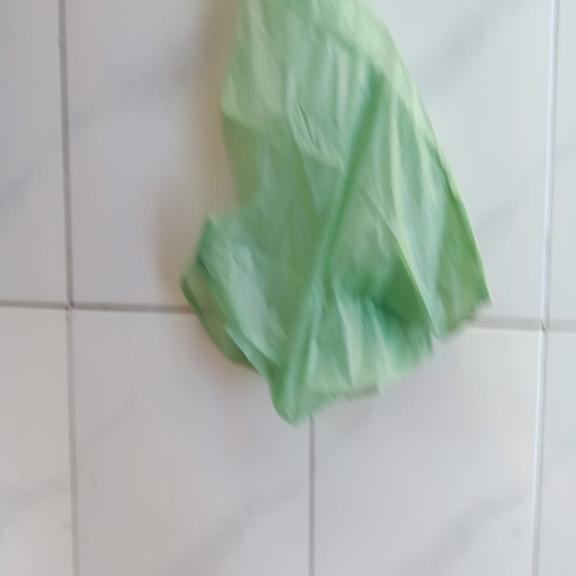Plastik: (180, 0, 494, 427)
